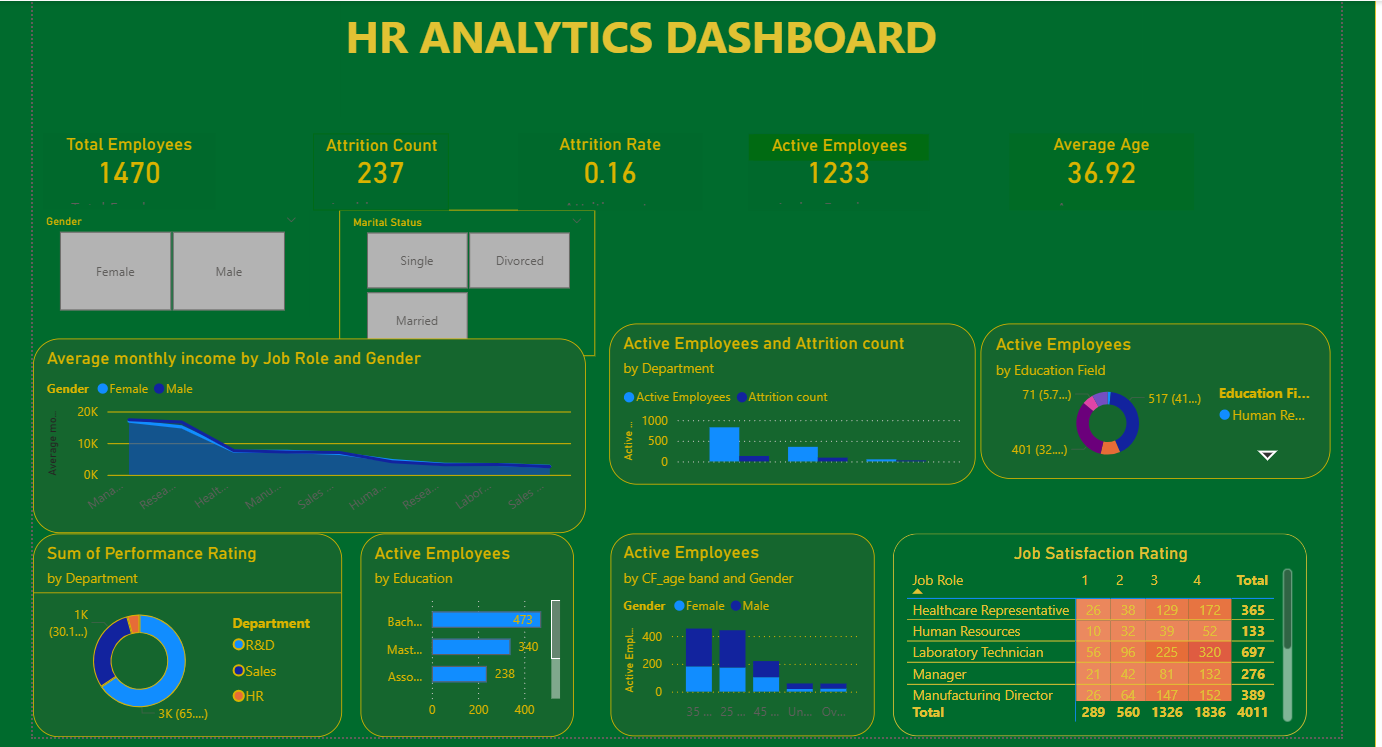

The dashboard page shown, as its layout file describes it:
{"tool":"powerbi","page":{"name":"Page 1","canvas":[1280,720],"ordinal":0},"visuals":[{"type":"textbox","box":[300.5,0,784.9,113.9],"z":0},{"type":"slicer","fields":{"Values":["Table1.Gender"]},"box":[0,204.2,270.2,105.2],"z":1000},{"type":"slicer","fields":{"Values":["Table1.Marital Status"]},"box":[299.6,204.2,250.7,143.1],"z":2000},{"type":"card","title":"Total Employees","fields":{"Values":["Table1.Total Employees"]},"box":[9.8,129.6,168.8,74.6],"z":3000},{"type":"card","title":"Attrition Count","fields":{"Values":["Table1.Attrition count"]},"box":[274.4,129.5,133,75],"z":4000},{"type":"donutChart","fields":{"Category":["Table1.Department"],"Y":["Sum(Table1.Performance Rating)"]},"box":[0,520.9,302,199.3],"z":5000},{"type":"pivotTable","title":"Job Satisfaction Rating","fields":{"Rows":["Table1.Job Role"],"Columns":["Table1.Job Satisfaction"],"Values":["Sum(Table1.Job Satisfaction)"]},"box":[841.3,520.9,404.8,198.1],"z":6000},{"type":"card","title":"Attrition Rate","fields":{"Values":["Table1.Attrition rate"]},"box":[473.9,129.5,180.7,75],"z":7000},{"type":"card","title":"Active Employees","fields":{"Values":["Table1.Active Employees"]},"box":[698.9,129.5,177.3,75],"z":8000},{"type":"card","title":"Average Age","fields":{"Values":["Table1.Average age"]},"box":[954.6,129.5,180.7,75],"z":9000},{"type":"donutChart","fields":{"Y":["Table1.Active Employees"],"Series":["Table1.Education Field"]},"box":[926.9,315.5,342.4,151.6],"z":10000},{"type":"clusteredBarChart","fields":{"Y":["Table1.Active Employees"],"Category":["Table1.Education"]},"box":[320.4,520.9,209.1,199.3],"z":11000},{"type":"columnChart","fields":{"Y":["Table1.Active Employees"],"Category":["Table1.CF_age band"],"Series":["Table1.Gender"]},"box":[564.9,520.9,258,198.1],"z":12000},{"type":"clusteredColumnChart","fields":{"Category":["Table1.Department"],"Y":["Table1.Active Employees","Table1.Attrition count"]},"box":[563.7,315.5,358.3,157.7],"z":13000},{"type":"areaChart","fields":{"Category":["Table1.Job Role"],"Y":["Table1.Average monthly income"],"Series":["Table1.Gender"]},"box":[0,330.2,540.5,190.8],"z":14000}]}

Visuals, with their boxes on the page's 1280x720 design canvas (x1, y1, x2, y2). These are canvas units, not pixel positions in the 1382x747 screenshot, which may show the page scaled, cropped or inside an application window:
textbox: (left=300, top=0, right=1085, bottom=114)
slicer - Table1.Gender: (left=0, top=204, right=270, bottom=309)
slicer - Table1.Marital Status: (left=300, top=204, right=550, bottom=347)
"Total Employees" card: (left=10, top=130, right=179, bottom=204)
"Attrition Count" card: (left=274, top=130, right=407, bottom=204)
donutChart - Table1.Department x Sum(Table1.Performance Rating): (left=0, top=521, right=302, bottom=720)
"Job Satisfaction Rating" pivotTable: (left=841, top=521, right=1246, bottom=719)
"Attrition Rate" card: (left=474, top=130, right=655, bottom=204)
"Active Employees" card: (left=699, top=130, right=876, bottom=204)
"Average Age" card: (left=955, top=130, right=1135, bottom=204)
donutChart - Table1.Active Employees x Table1.Education Field: (left=927, top=316, right=1269, bottom=467)
clusteredBarChart - Table1.Active Employees x Table1.Education: (left=320, top=521, right=530, bottom=720)
columnChart - Table1.Active Employees x Table1.CF_age band: (left=565, top=521, right=823, bottom=719)
clusteredColumnChart - Table1.Department x Table1.Active Employees: (left=564, top=316, right=922, bottom=473)
areaChart - Table1.Job Role x Table1.Average monthly income: (left=0, top=330, right=540, bottom=521)
